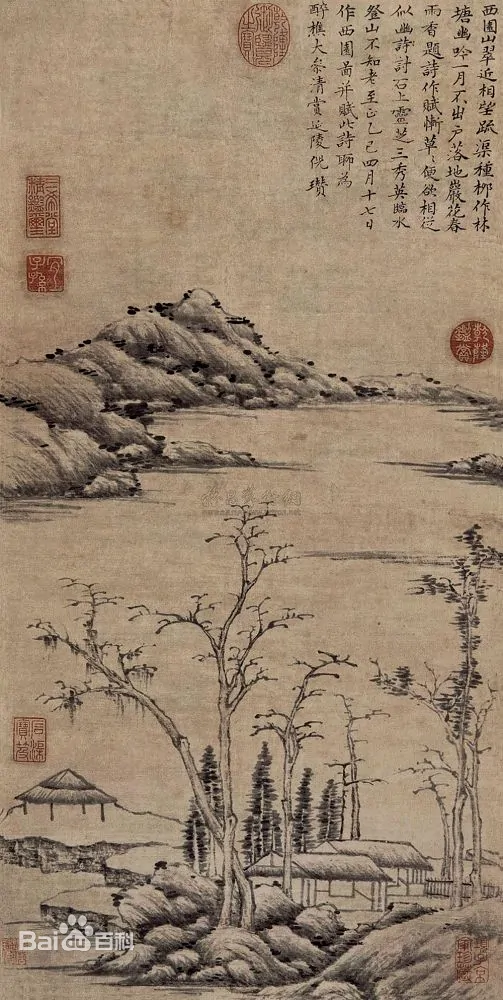booth: (11, 757, 130, 832)
hill: (11, 291, 369, 508)
house: (253, 829, 473, 919)
rock: (127, 866, 336, 989)
tree: (36, 501, 275, 928), (373, 528, 499, 908), (262, 649, 339, 911), (176, 742, 341, 858), (329, 688, 383, 846)
